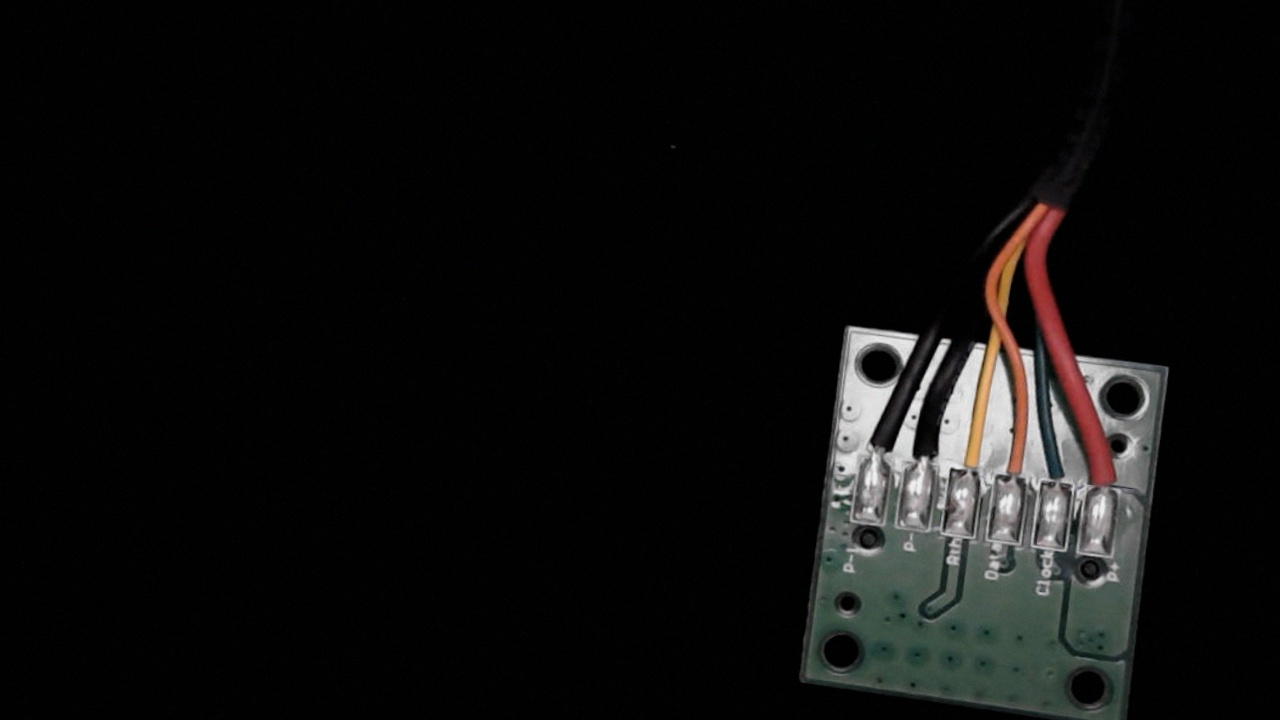Black: (901, 407, 950, 487)
Black1: (855, 402, 905, 481)
Green: (1034, 433, 1085, 507)
Orange: (989, 420, 1039, 505)
Red: (1081, 431, 1134, 513)
Yellow: (945, 410, 998, 497)
